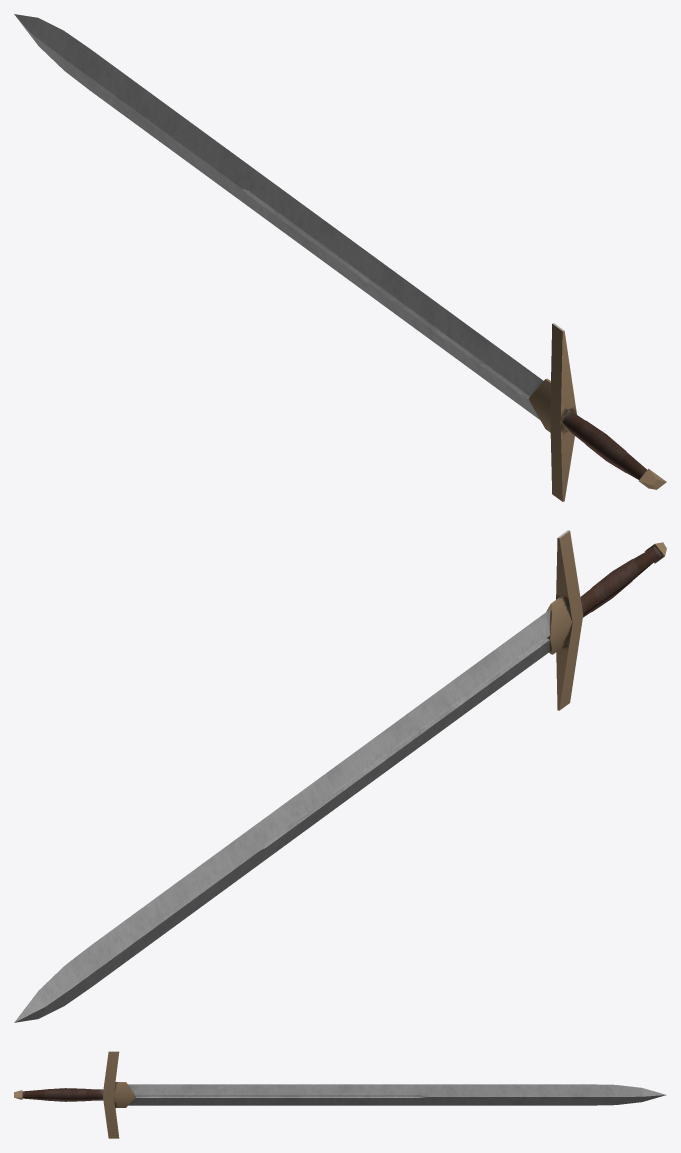
Rendered from Low_Poly_Sword_Silver.glb.
The picture shows the model from 3 angles, top to bottom: view 1: azimuth 30°, elevation 25°; view 2: azimuth 150°, elevation 25°; view 3: azimuth 270°, elevation 25°; orthographic projection. The views are drawn at different scales.
Parts seen in each view (by area): view 1: defaultMaterial (×4); view 2: defaultMaterial (×4); view 3: defaultMaterial (×4).
Boxes of the visible parts, box(x1,y1,x2,y2) form: defaultMaterial (×4): box(14, 14, 666, 501); defaultMaterial (×4): box(14, 530, 666, 1022); defaultMaterial (×4): box(14, 1051, 665, 1138).
Bounding box in the file's own units: 0.0366 × 0.293 × 2.
2 materials, 2 textured.
